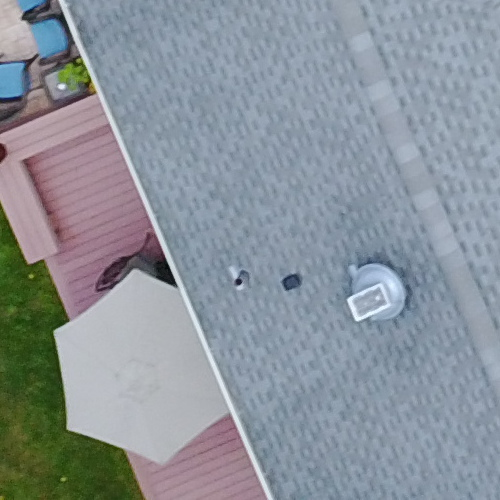porch: (3, 108, 298, 500)
umbrella: (43, 263, 245, 476)
